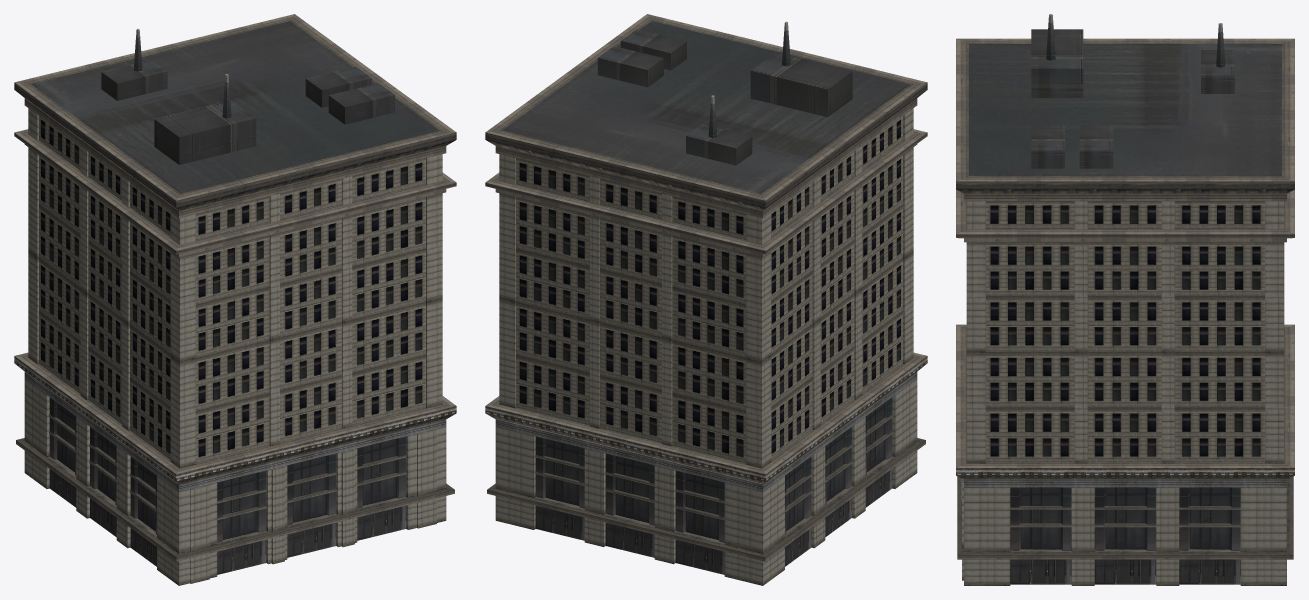
Rendered from downtown_modernoffice_5_b.glb.
The picture shows the model from 3 angles, left to right: view 1: azimuth 30°, elevation 25°; view 2: azimuth 150°, elevation 25°; view 3: azimuth 270°, elevation 25°; orthographic projection. The views are drawn at different scales.
Parts seen in each view (by area): view 1: Downtown_ModernOffice_5_B_Downtown_Facade_FLR_4_0, Downtown_ModernOffice_5_B_Downtown_Modern_Firstfloor_FLR_1_0; view 2: Downtown_ModernOffice_5_B_Downtown_Facade_FLR_4_0, Downtown_ModernOffice_5_B_Downtown_Modern_Firstfloor_FLR_1_0; view 3: Downtown_ModernOffice_5_B_Downtown_Facade_FLR_4_0, Downtown_ModernOffice_5_B_Downtown_Modern_Firstfloor_FLR_1_0.
Part boxes in pixels (<box>): Downtown_ModernOffice_5_B_Downtown_Facade_FLR_4_0: <box>14,14,456,585</box>; Downtown_ModernOffice_5_B_Downtown_Modern_Firstfloor_FLR_1_0: <box>31,21,439,574</box>; Downtown_ModernOffice_5_B_Downtown_Facade_FLR_4_0: <box>485,14,927,585</box>; Downtown_ModernOffice_5_B_Downtown_Modern_Firstfloor_FLR_1_0: <box>502,21,910,574</box>; Downtown_ModernOffice_5_B_Downtown_Facade_FLR_4_0: <box>956,38,1294,585</box>; Downtown_ModernOffice_5_B_Downtown_Modern_Firstfloor_FLR_1_0: <box>968,14,1282,584</box>.
Size of the model in its own units: 35.7 by 55.86 by 35.7.
Materials: 2 (2 with a texture image).
